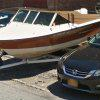Boat: (2, 0, 100, 56)
